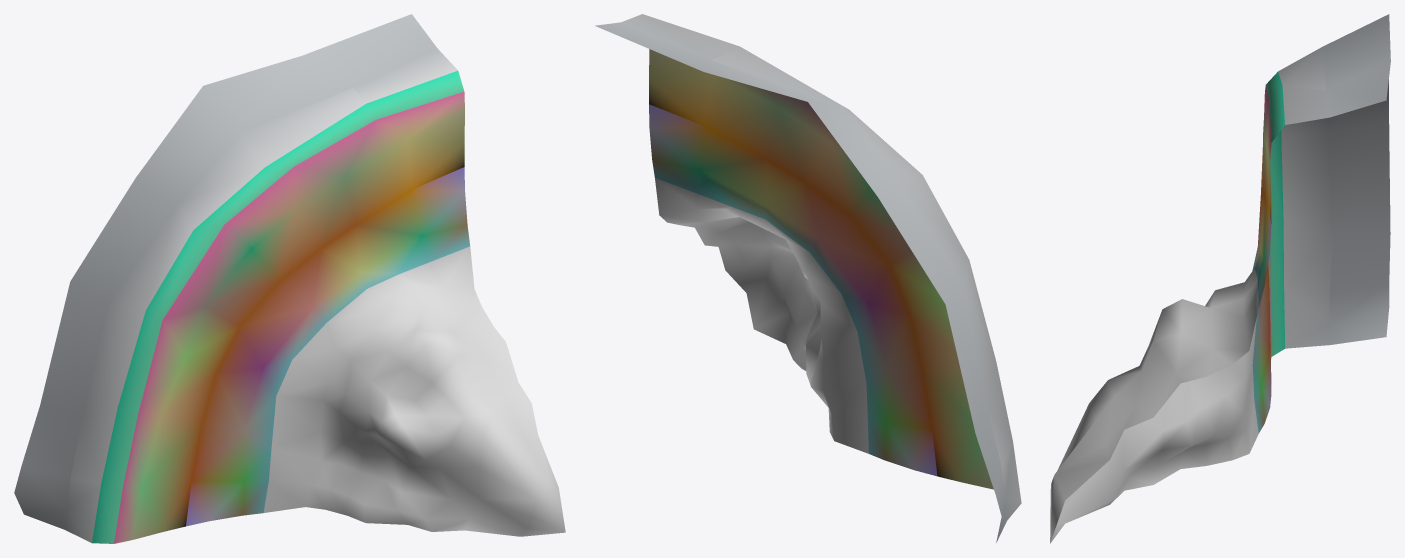
Rendered from Volcano_CurveOutA_lod2.glb.
The picture shows the model from 3 angles, left to right: view 1: azimuth 30°, elevation 25°; view 2: azimuth 150°, elevation 25°; view 3: azimuth 270°, elevation 25°; orthographic projection. The views are drawn at different scales.
Parts seen in each view (by area): view 1: MeshNode_0, MeshNode_1; view 2: MeshNode_1, MeshNode_0; view 3: MeshNode_0, MeshNode_1.
Boxes of the visible parts, x1,y1,x2,y2 form: MeshNode_0: (14,14,565,542); MeshNode_1: (92,70,469,543); MeshNode_1: (649,49,993,489); MeshNode_0: (595,14,1021,542); MeshNode_0: (1050,14,1390,543); MeshNode_1: (1252,71,1285,433).
Bounding box in the file's own units: 91.05 × 89.09 × 62.04.
